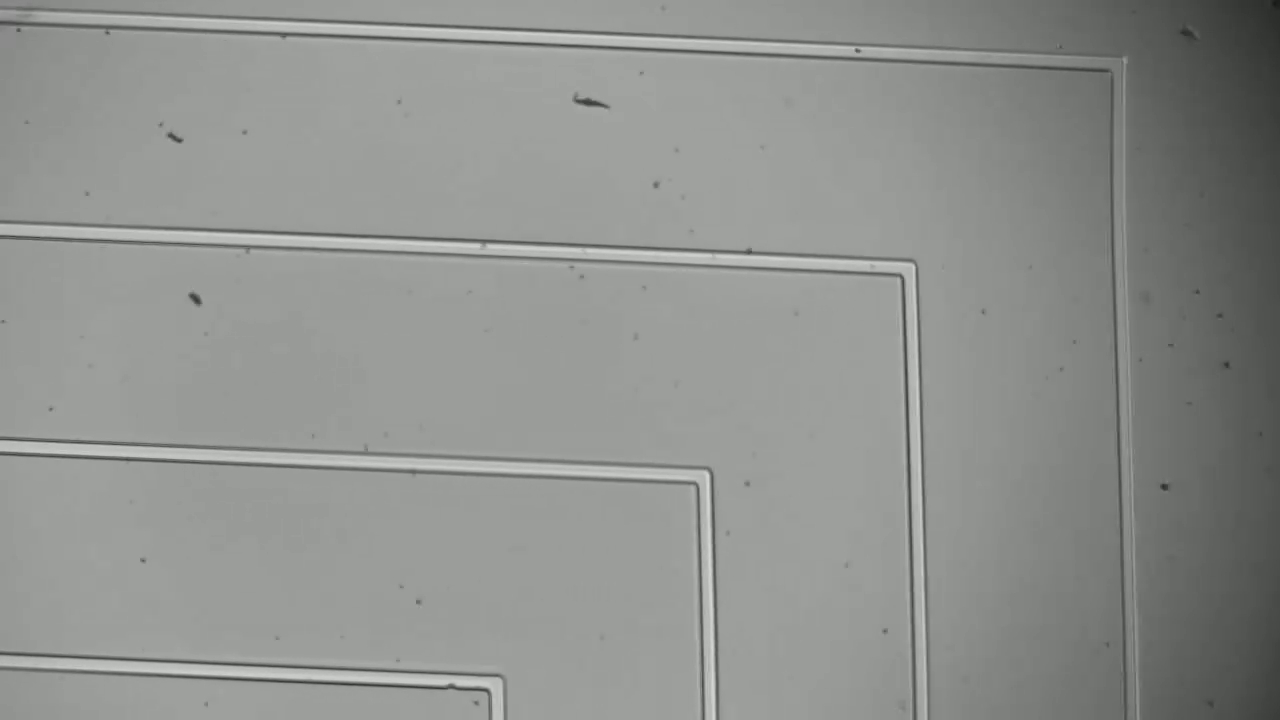edge_bite: (439, 664, 466, 694)
